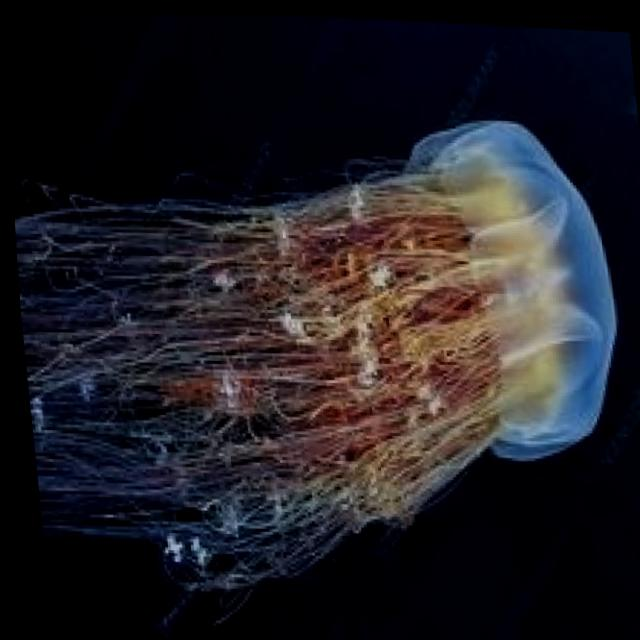Box-jellyfish: (4, 85, 640, 639)
